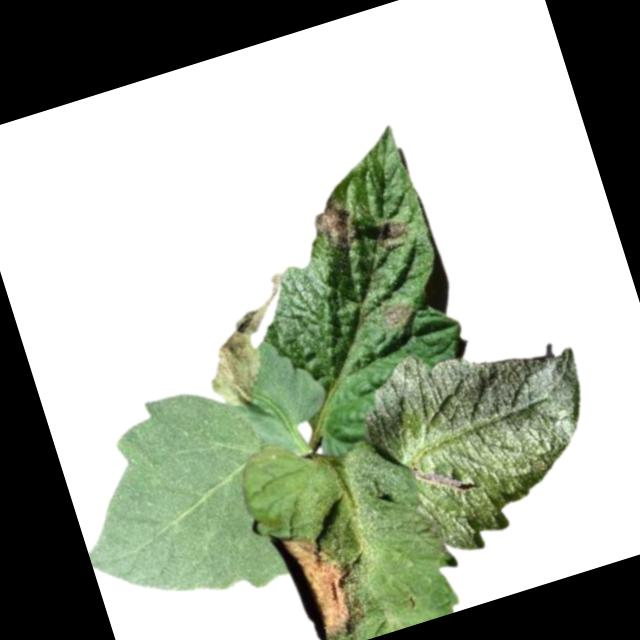Late_blight: (273, 517, 369, 640), (190, 298, 293, 412), (311, 194, 357, 251), (372, 297, 414, 331), (374, 216, 409, 245)
